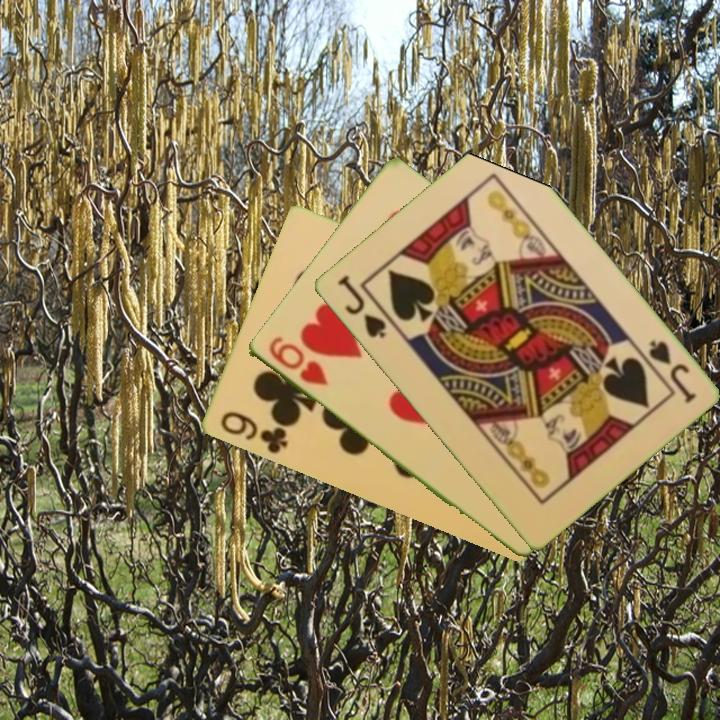6h: (264, 333, 331, 389)
9c: (216, 408, 291, 457)
Js: (333, 271, 389, 342), (644, 336, 699, 407)
